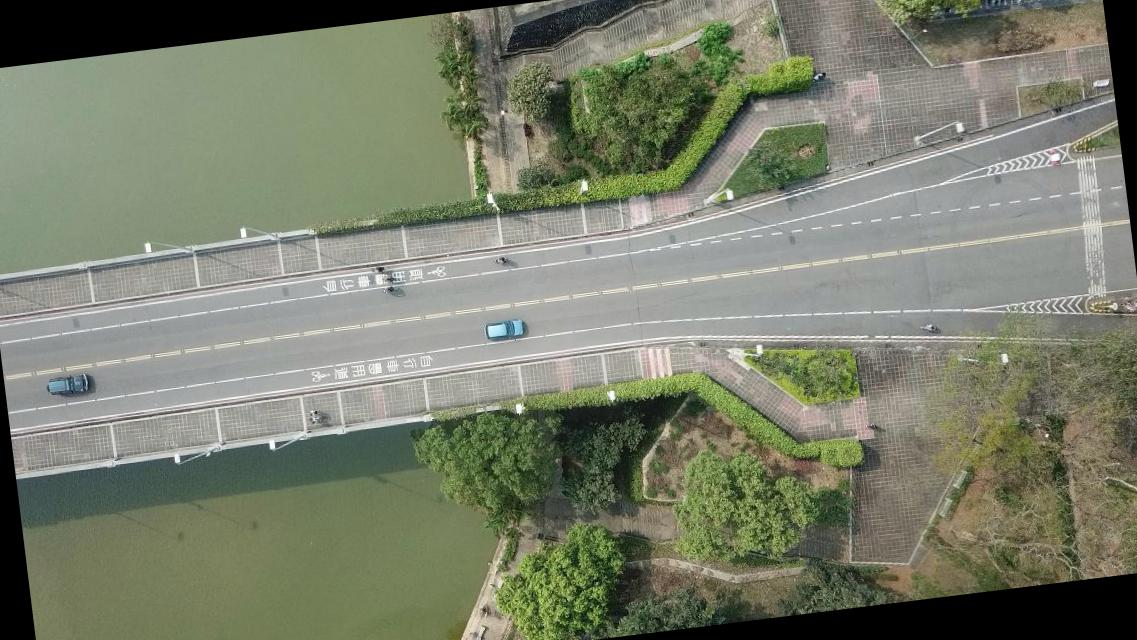vehicle: (44, 374, 89, 396), (483, 319, 525, 342)
